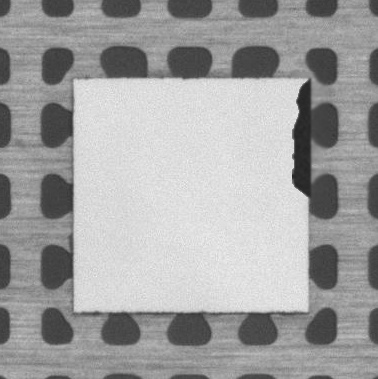DIE_BROKEN: (290, 77, 313, 200)
